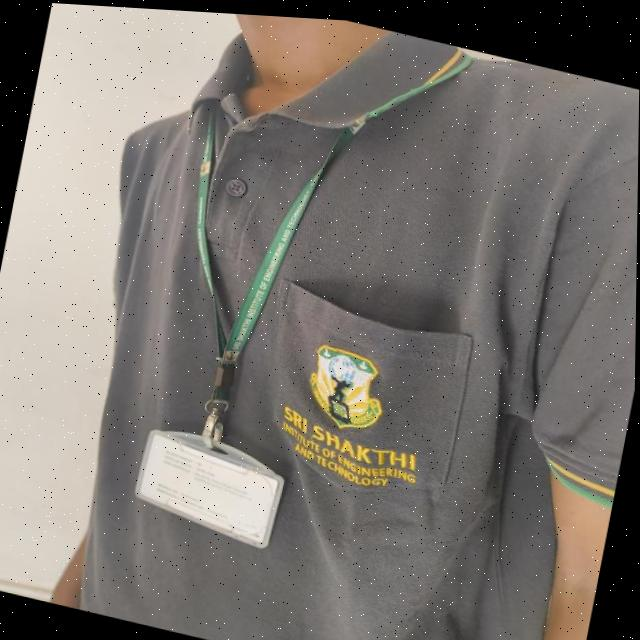id_card: (86, 73, 383, 563)
